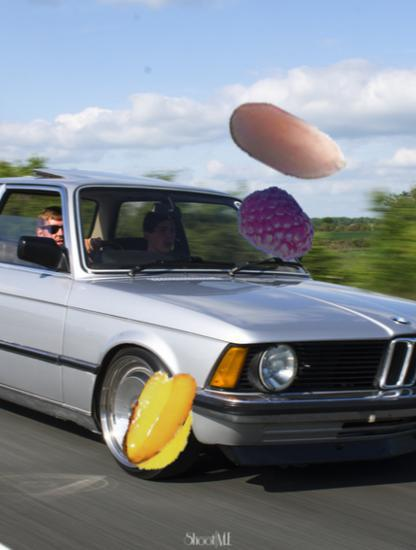Carambula: (104, 364, 213, 473)
Hazelnut: (223, 79, 352, 208)
Raspberry: (233, 184, 318, 269)
